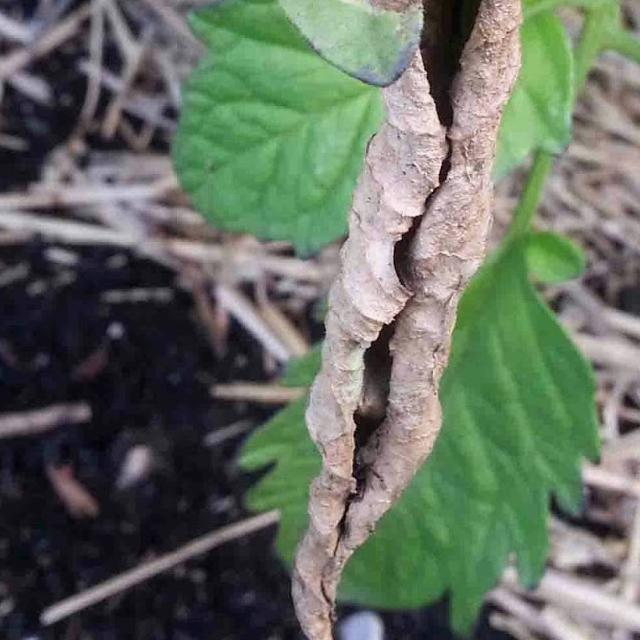Tomato leaf late blight: (207, 0, 640, 640)
